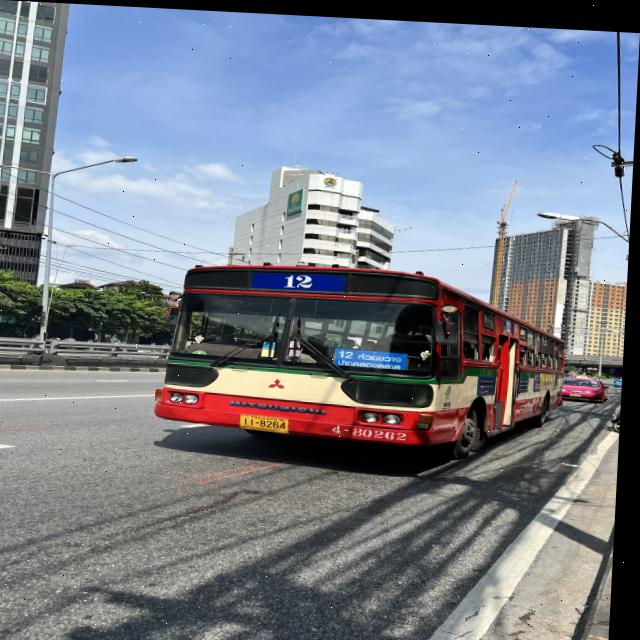BMTA-bus: (158, 262, 571, 454)
Bus Line Number: (267, 266, 340, 290)
Bus Side Number: (326, 418, 419, 438)
Destination Sign: (338, 344, 413, 368)
